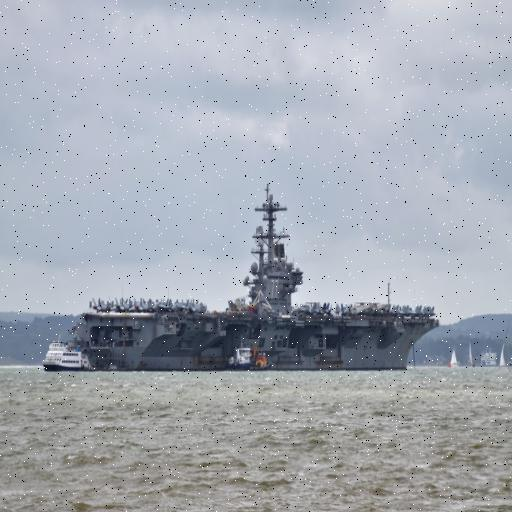Portanaves: (68, 184, 442, 368)
